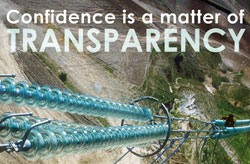isolator: (1, 77, 171, 160), (211, 118, 250, 140)
